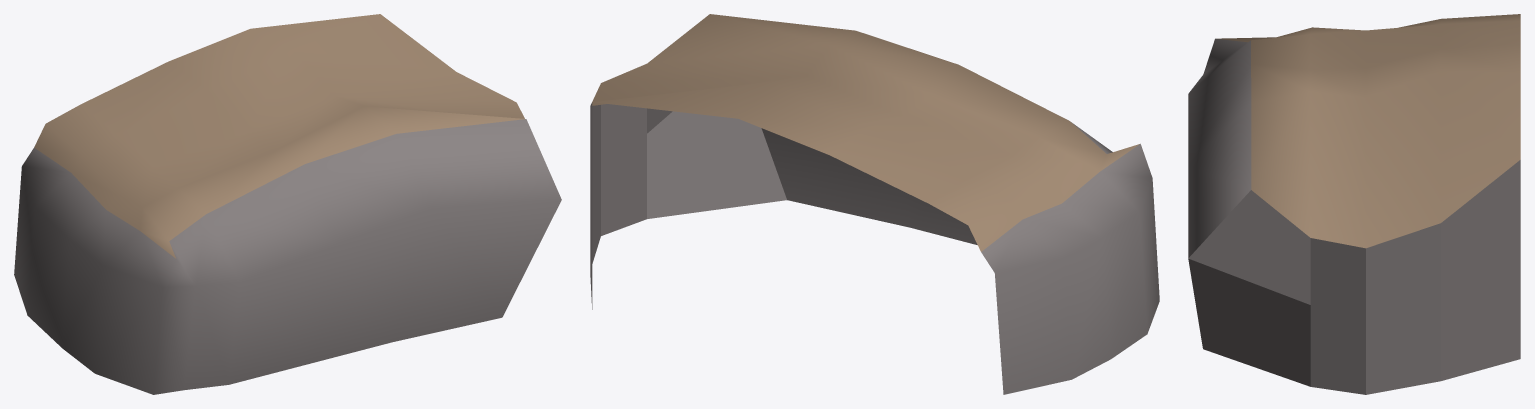
The model's file is Steg_5.fbx.
3 renders of one model, left to right at view 1: azimuth 30°, elevation 25°; view 2: azimuth 150°, elevation 25°; view 3: azimuth 270°, elevation 25°, orthographic. The views are drawn at different scales.
Visible parts, largest first — view 1: Steg_5; view 2: Steg_5; view 3: Steg_5.
Part boxes in pixels (left/top/right/bottom): Steg_5: left=14, top=14, right=561, bottom=394; Steg_5: left=590, top=14, right=1159, bottom=394; Steg_5: left=1188, top=14, right=1520, bottom=394.
Bounding box in the file's own units: 3106 × 1379 × 1832.
